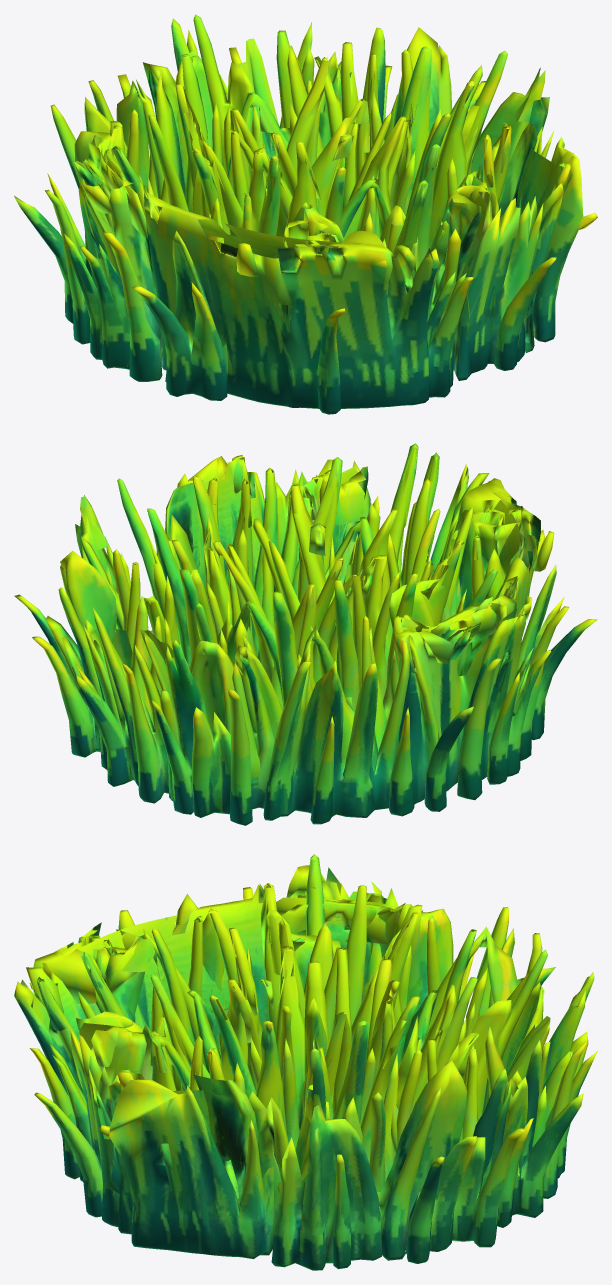
File: tall_grass.glb
3 views of the same model, one above another, from view 1: azimuth 30°, elevation 25°; view 2: azimuth 150°, elevation 25°; view 3: azimuth 270°, elevation 25° (orthographic). The views are drawn at different scales.
Size of the model in its own units: 1.87 by 0.8063 by 1.93.
Materials: 1 (1 with a texture image).
